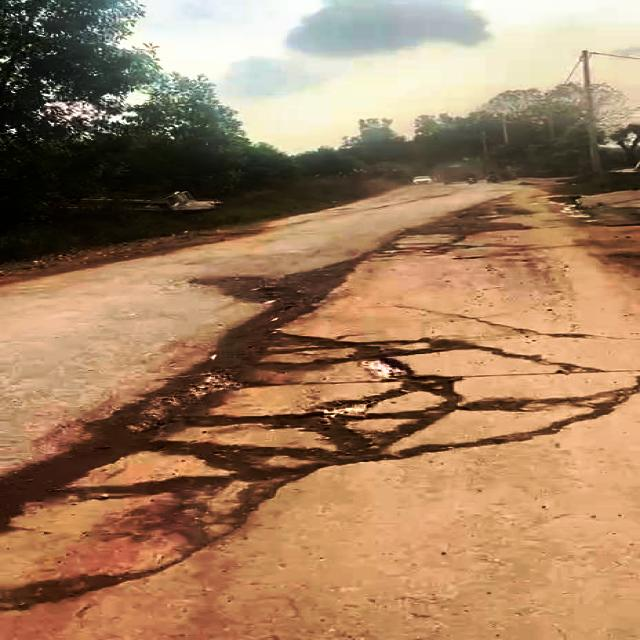pothole: (0, 464, 337, 611), (87, 330, 461, 460)
